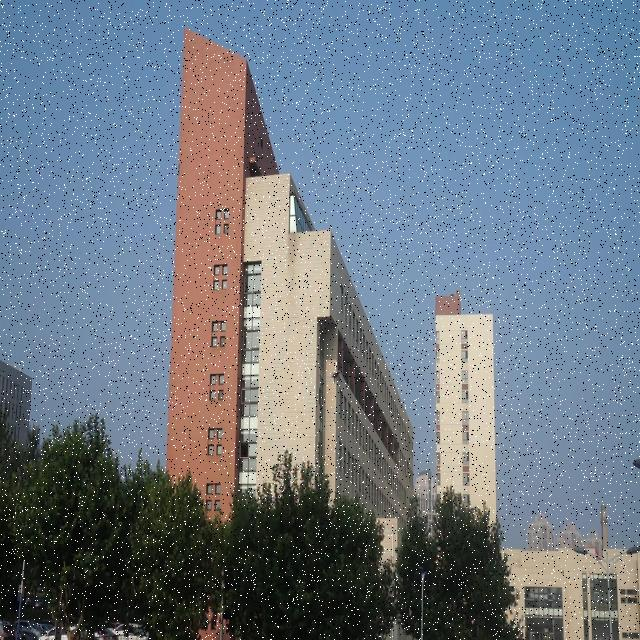UAV: (332, 370, 342, 383)
